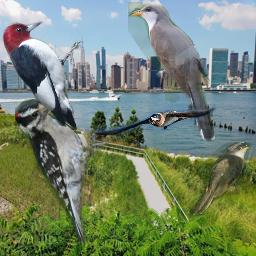Cuckoo: (128, 2, 218, 144), (188, 142, 253, 218)
Swallow: (94, 104, 216, 135)
Woodpecker: (15, 99, 109, 245), (2, 21, 85, 130)
